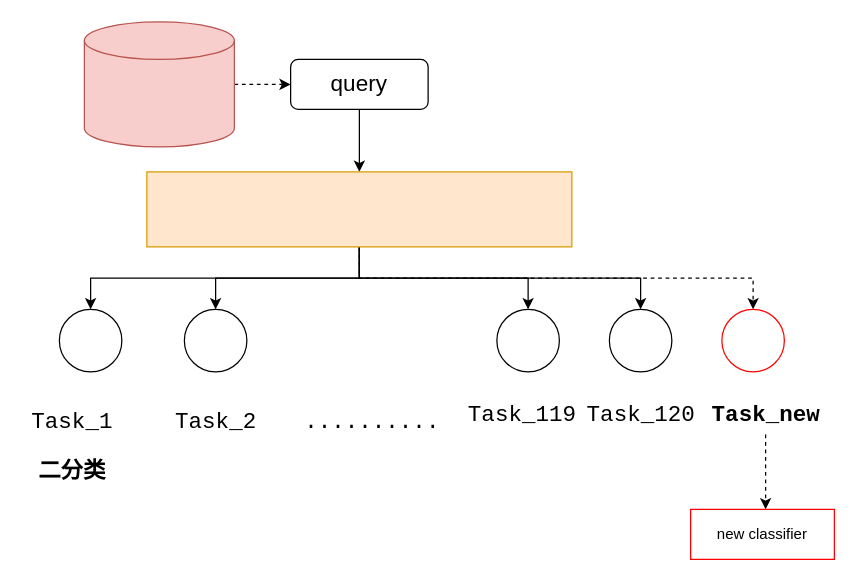
Image size: 856x581. Some labels were removed from this diagram. Here are the shapes that lost their labels. From the top down, the centre of each, then its label:
(x=158, y=84): Traing Data new label text
(x=359, y=209): 句向量表征模型 一次训练，固定表征层，供下游任务使用
